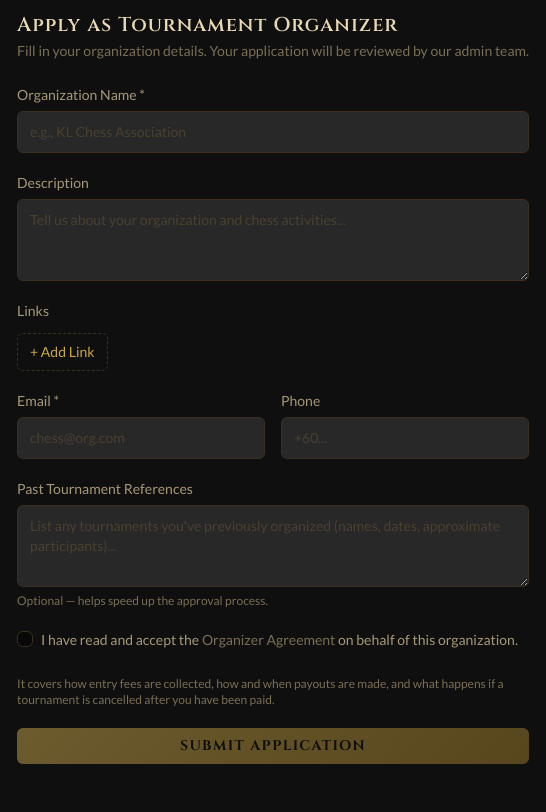
Test: ApplyForm › addLink › adds multiple link rows on repeated clicks
This screenshot has width=546, height=812.
Click the button "+ Add Link" at point(62, 352), box [17,333,108,371]
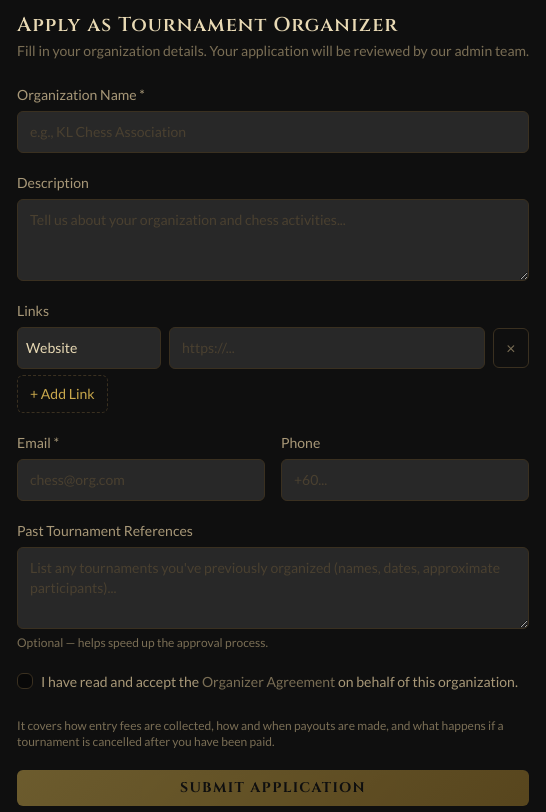
Click the button "+ Add Link" at point(62, 394), box [17,375,108,413]
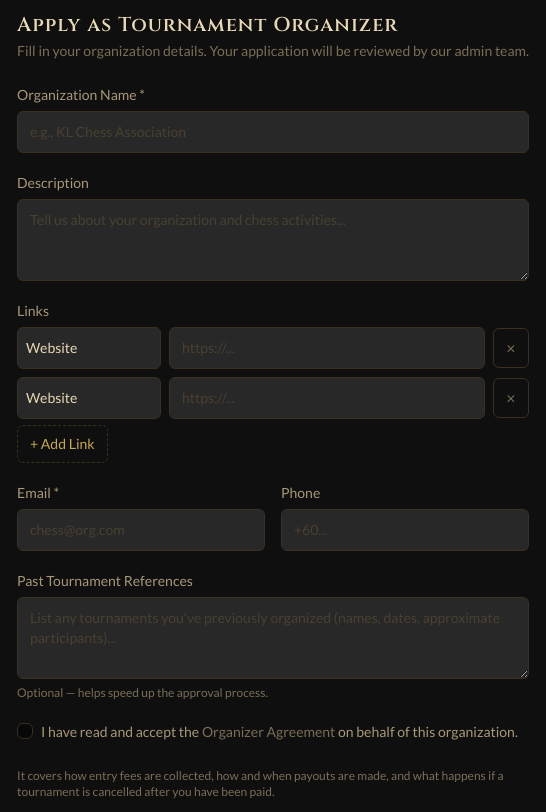
Expected: the number of buttons named "Remove link" is 2, [493,328,529,368]; [493,378,529,418]
